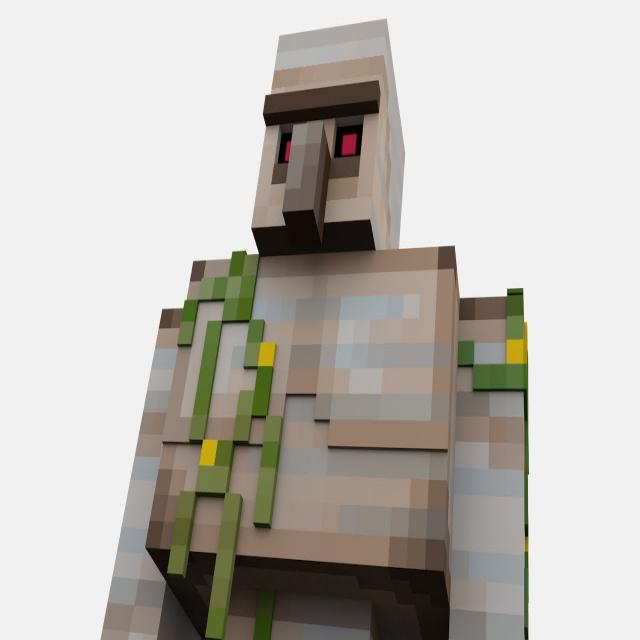Iron Golem: (95, 13, 532, 640)
